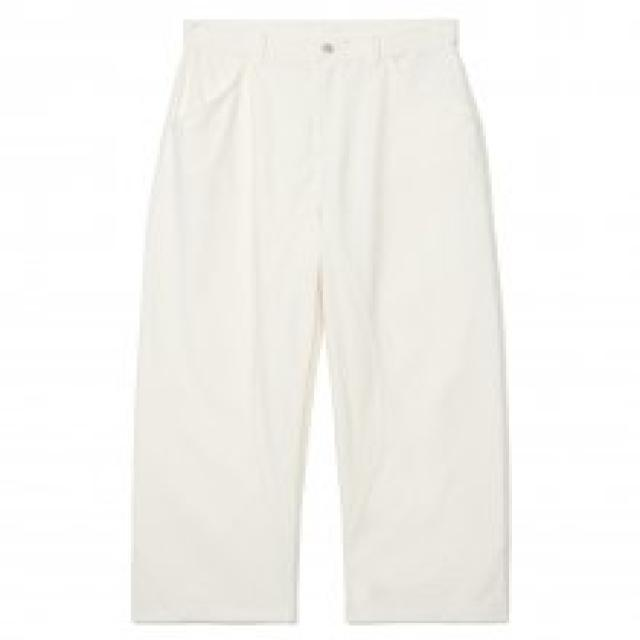long-pants: (121, 15, 514, 627)
